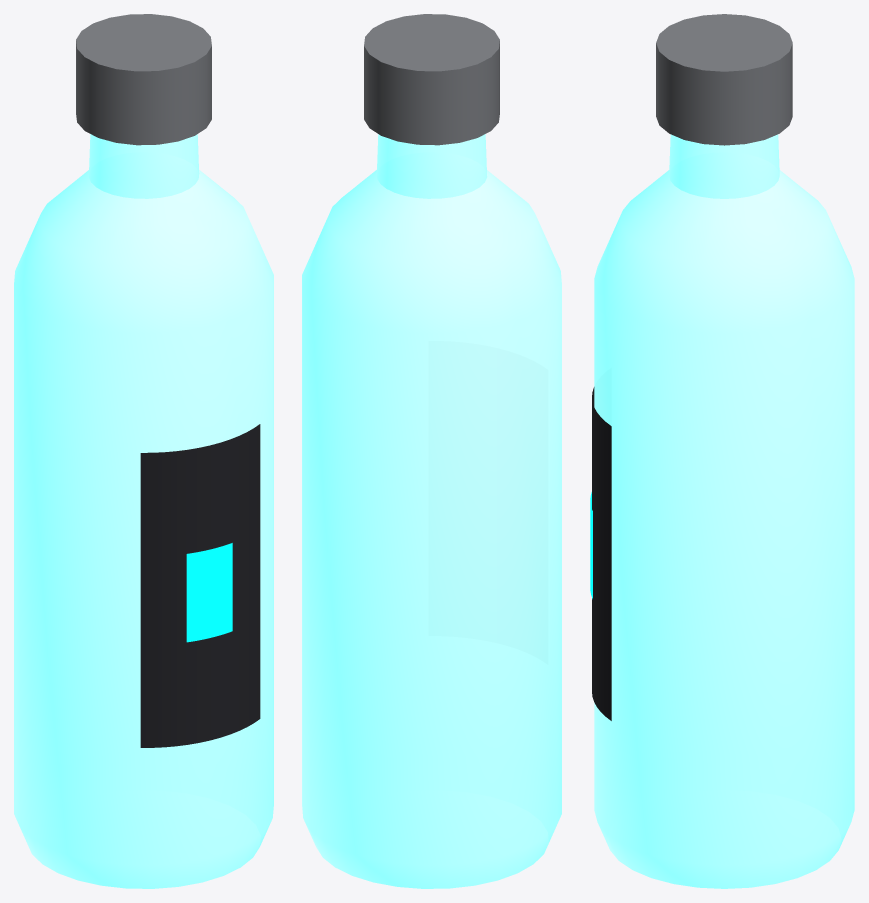
File: KIT_Garrafa_Neon.glb
The picture shows the model from 3 angles, left to right: view 1: azimuth 30°, elevation 25°; view 2: azimuth 150°, elevation 25°; view 3: azimuth 270°, elevation 25°; orthographic projection.
Parts seen in each view (by area): view 1: KIT_Garrafa_Neon; view 2: KIT_Garrafa_Neon; view 3: KIT_Garrafa_Neon.
Part boxes in pixels (x1,y1,x2,y2): KIT_Garrafa_Neon: (14,14,273,888); KIT_Garrafa_Neon: (302,14,561,888); KIT_Garrafa_Neon: (590,14,854,888).
Bounding box in the file's own units: 0.08 × 0.27 × 0.0812.
